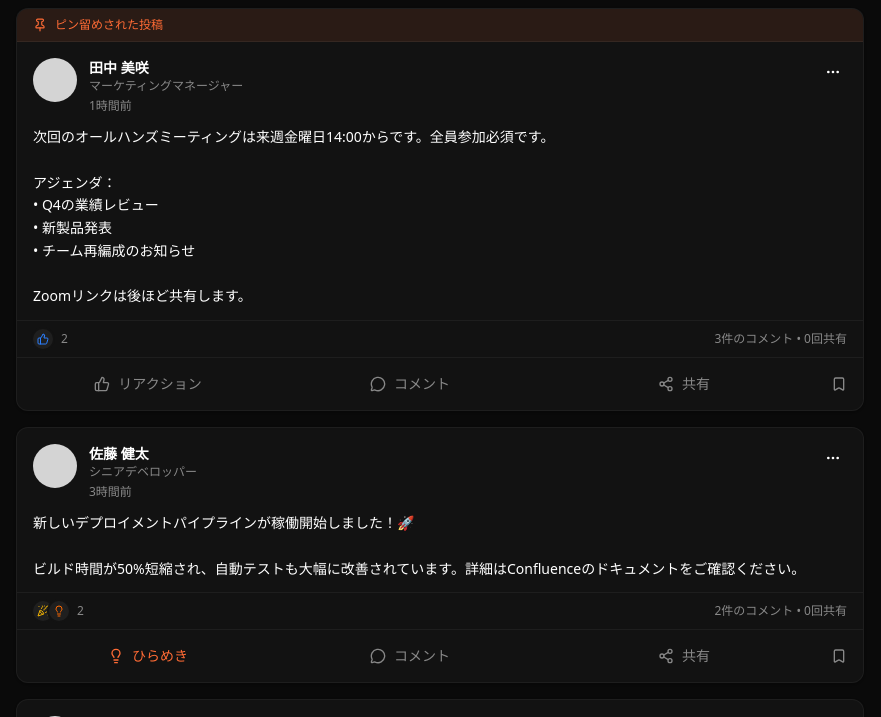
Test: CommunityFeed / Interactions › should show reaction popup when button is clicked
This screenshot has width=881, height=717.
(page scrolled)
Click the button "リアクション".
click(148, 384)  # box [25, 366, 271, 402]
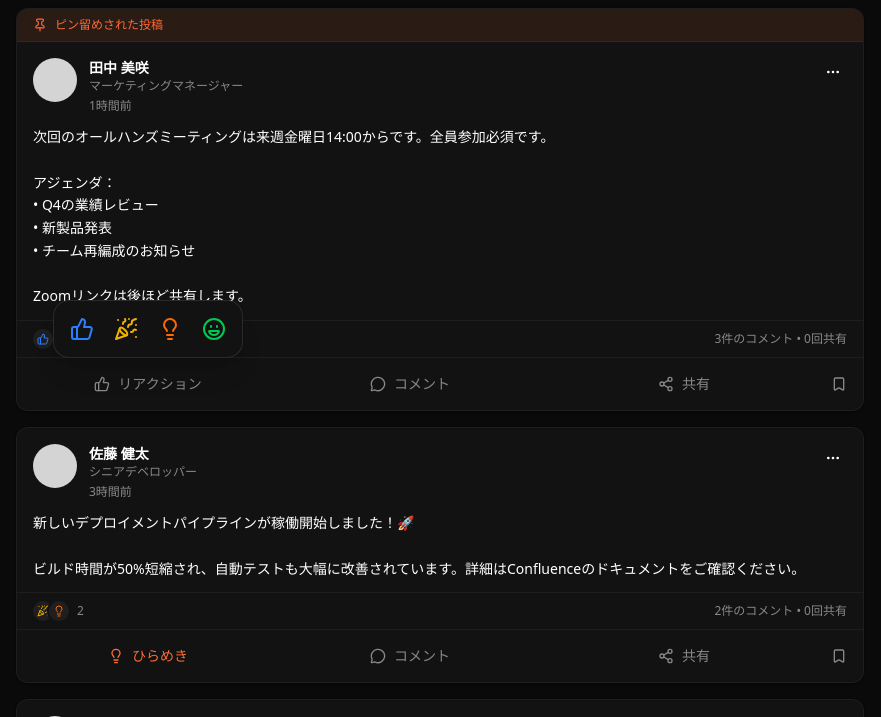
Expected: the button titled "いいね" is shown, [62, 309, 102, 349]
Expected: the button titled "祝福" is shown, [106, 309, 146, 349]
Expected: the button titled "ひらめき" is shown, [150, 309, 190, 349]
